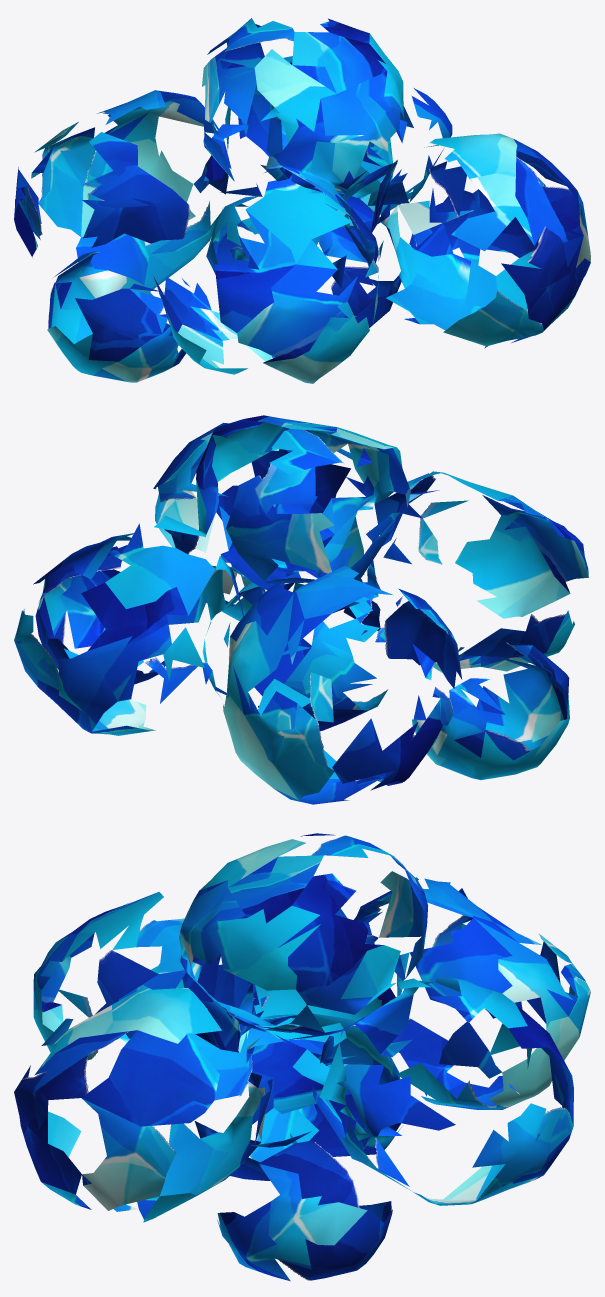
Rendered from sapphire_gem_pile_3500tris.fbx.
3 renders of one model, top to bottom at view 1: azimuth 30°, elevation 25°; view 2: azimuth 150°, elevation 25°; view 3: azimuth 270°, elevation 25°, orthographic. The views are drawn at different scales.
Parts seen in each view (by area): view 1: sapphire_gem_pile_decimated; view 2: sapphire_gem_pile_decimated; view 3: sapphire_gem_pile_decimated.
Part boxes in pixels (box(x1,y1,x2,y2)): sapphire_gem_pile_decimated: box(14, 18, 590, 383); sapphire_gem_pile_decimated: box(14, 415, 588, 804); sapphire_gem_pile_decimated: box(14, 833, 590, 1281).
Bounding box in the file's own units: 1.91 × 1.07 × 1.74.
